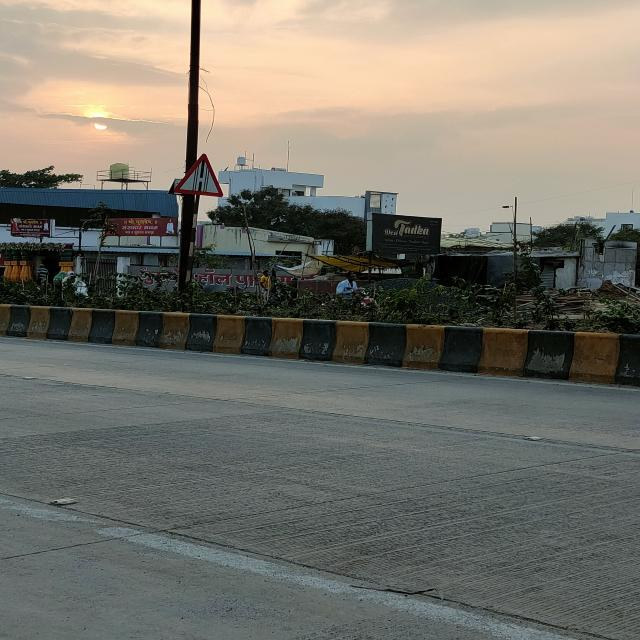GAP_IN_MEDIAN: (172, 153, 225, 197)
